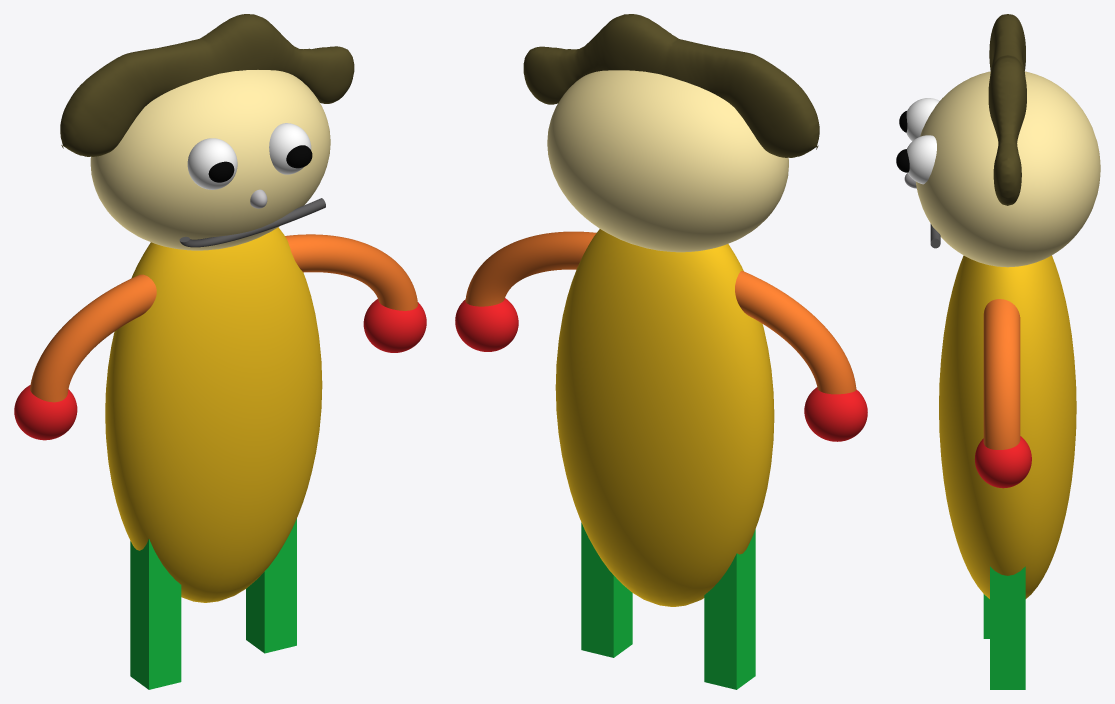
File: 3dman.fbx
3 views of the same model, side by side, from view 1: azimuth 30°, elevation 25°; view 2: azimuth 150°, elevation 25°; view 3: azimuth 270°, elevation 25° (orthographic). The views are drawn at different scales.
Parts seen in each view (by area): view 1: root (×12); view 2: root (×9); view 3: root (×8).
Boxes of the visible parts, box(x1,y1,x2,y2) form: root (×12): box(14, 14, 426, 689); root (×9): box(455, 14, 867, 689); root (×8): box(906, 14, 1100, 689).
Size of the model in its own units: 0.1893 by 0.2862 by 0.0865.
Materials: 11 (11 with a texture image).
